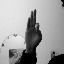f: (24, 8, 43, 49)
